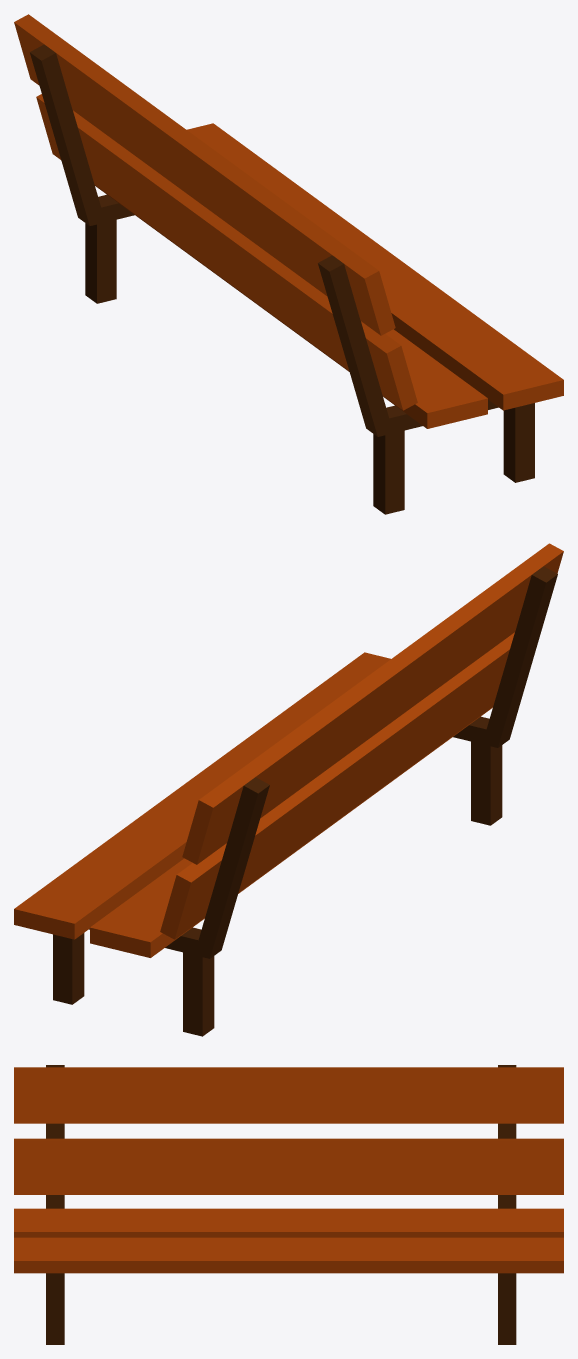
File: Bench.fbx
3 views of the same model, one above another, from view 1: azimuth 30°, elevation 25°; view 2: azimuth 150°, elevation 25°; view 3: azimuth 270°, elevation 25° (orthographic). The views are drawn at different scales.
Visible parts, largest first — view 1: Cube.003; view 2: Cube.003; view 3: Cube.003.
Boxes of the visible parts, x1,y1,x2,y2 form: Cube.003: (14, 14, 563, 514); Cube.003: (14, 543, 563, 1036); Cube.003: (14, 1065, 563, 1344).
Size of the model in its own units: 0.5047 by 0.5979 by 1.43.
